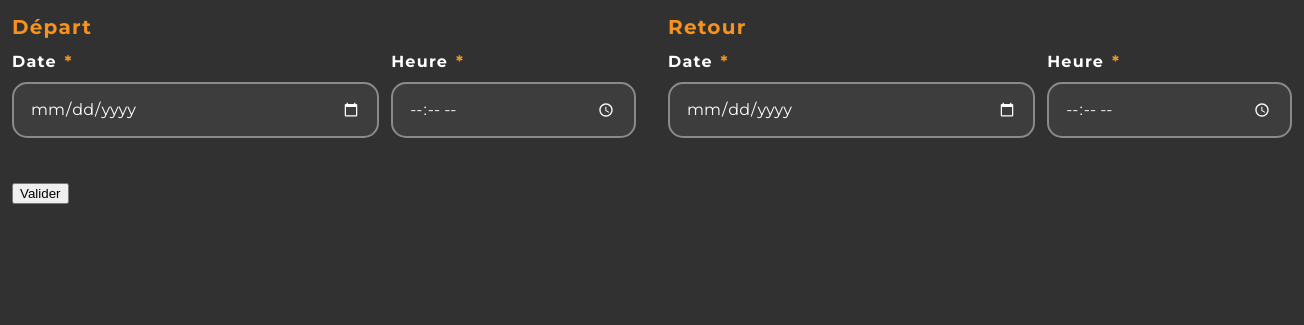
Test: DateTimeRange + useStayValidation › applique le délai minimal avant départ
Type "2026-11-13" into the date field labelled "Date *" below "Départ" at [196, 110], box [12,82,379,138]
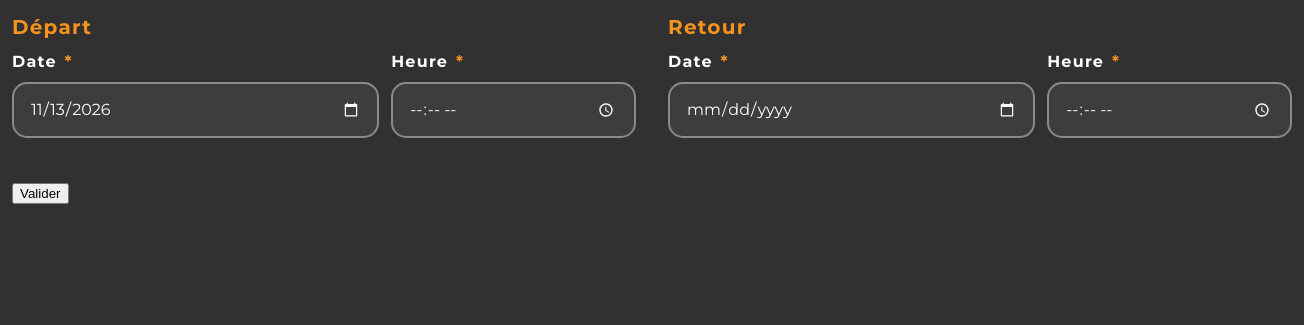
Type "11:00" into the 1st time field labelled "Heure *" at [514, 110], box [391,82,636,138]
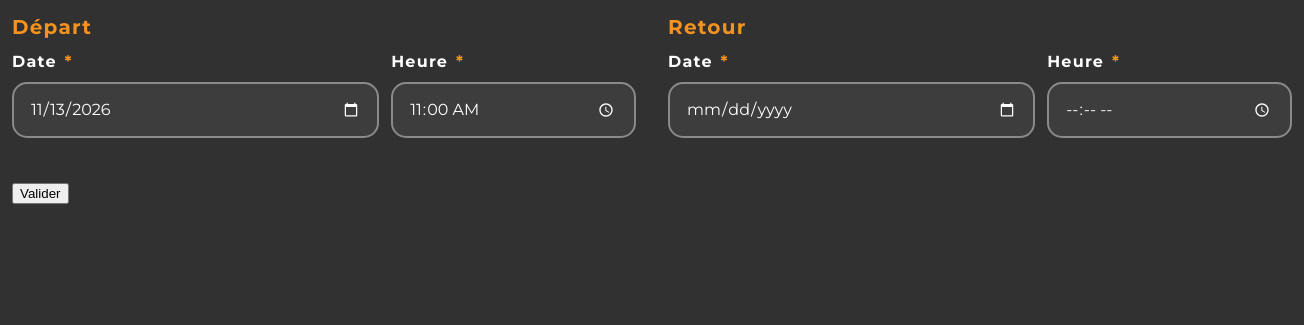
Leave the 1st time field labelled "Heure *", box [391,82,636,138]
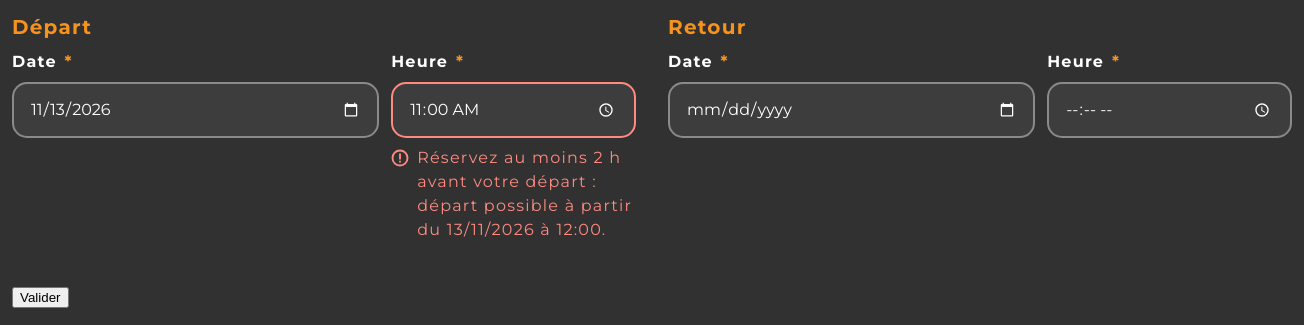
Expected: the text "Réservez au moins 2 h avant votre départ" is shown, [417,148,632,239]
